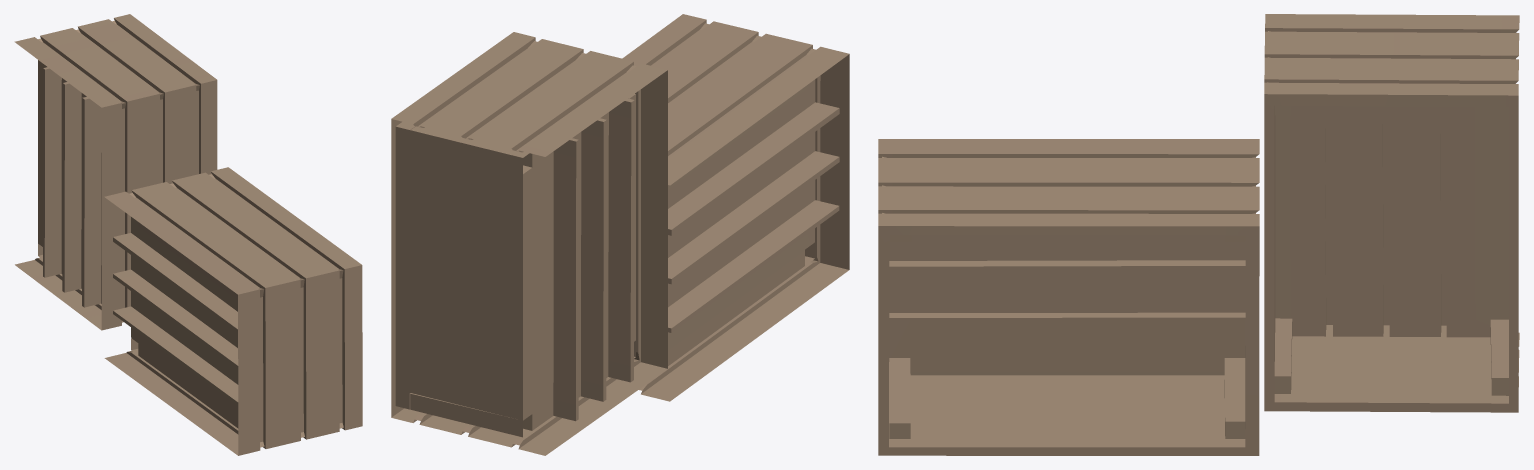
The picture shows the model from 3 angles, left to right: view 1: azimuth 30°, elevation 25°; view 2: azimuth 150°, elevation 25°; view 3: azimuth 270°, elevation 25°; orthographic projection. The views are drawn at different scales.
Visible parts, largest first — view 1: youleback15; view 2: youleback15; view 3: youleback15.
Part boxes in pixels (<box>): youleback15: <box>14,14,362,455</box>; youleback15: <box>391,14,849,455</box>; youleback15: <box>878,14,1519,455</box>.
Size of the model in its own units: 1.68 by 3.21 by 5.25.
